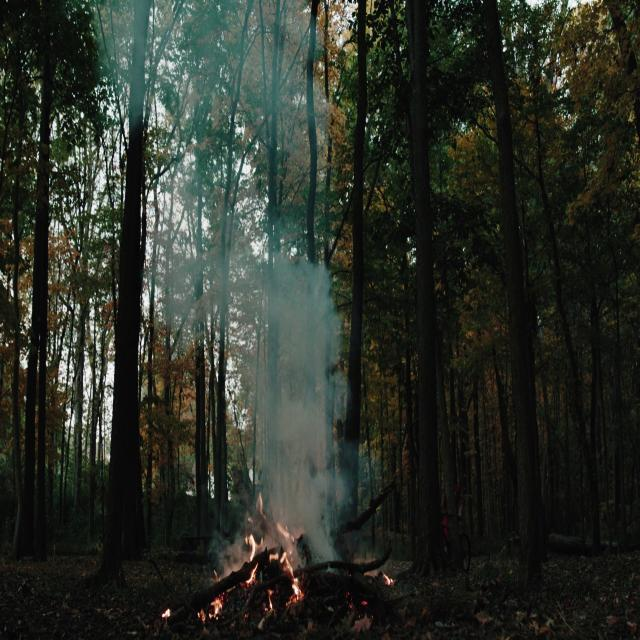Fire: (240, 512, 304, 600), (200, 579, 230, 628)
Smoke: (168, 2, 354, 560)
